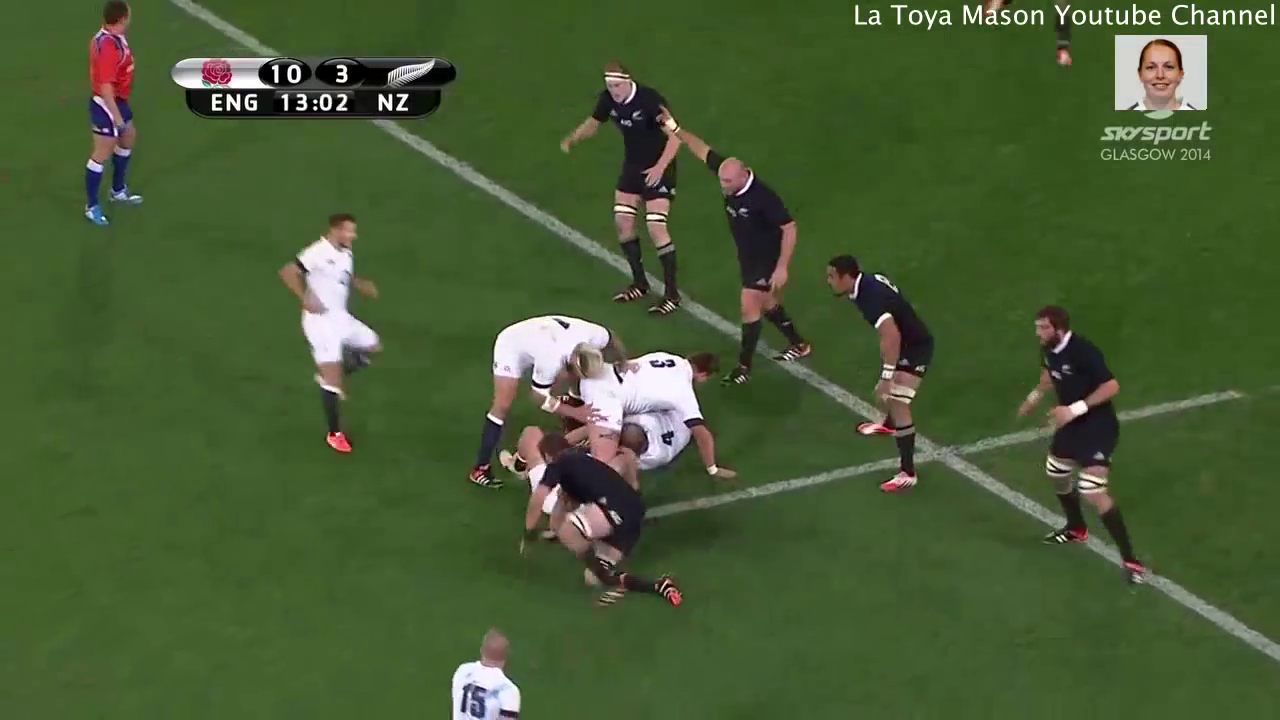player: (1008, 295, 1158, 616), (657, 104, 811, 385), (549, 55, 698, 328), (809, 242, 945, 517), (450, 299, 636, 500), (512, 424, 693, 626), (265, 202, 386, 461), (570, 342, 737, 492), (70, 1, 149, 235), (444, 620, 531, 720)
